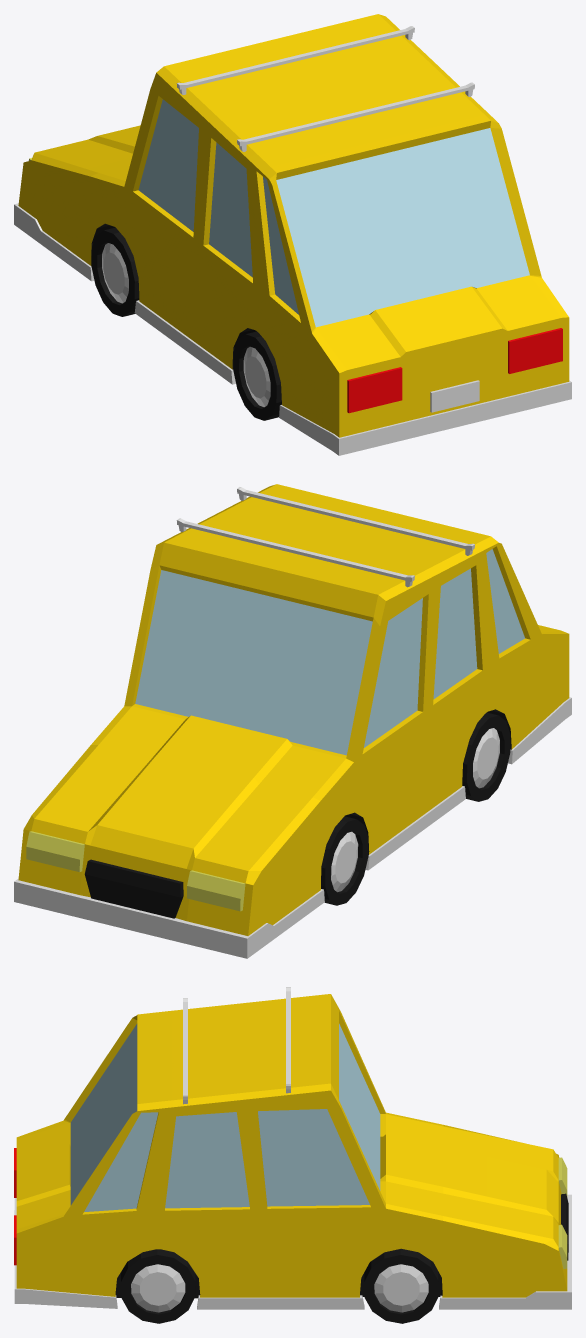
File: Omasinutadeaur 1.fbx
3 renders of one model, top to bottom at view 1: azimuth 30°, elevation 25°; view 2: azimuth 150°, elevation 25°; view 3: azimuth 270°, elevation 25°, orthographic. The views are drawn at different scales.
Parts seen in each view (by area): view 1: Cube.001; view 2: Cube.001; view 3: Cube.001.
Part boxes in pixels (left/top/right/bottom): Cube.001: left=14, top=14, right=571, bottom=455; Cube.001: left=14, top=484, right=571, bottom=958; Cube.001: left=14, top=987, right=571, bottom=1323.
Bounding box in the file's own units: 205 × 231 × 490.
